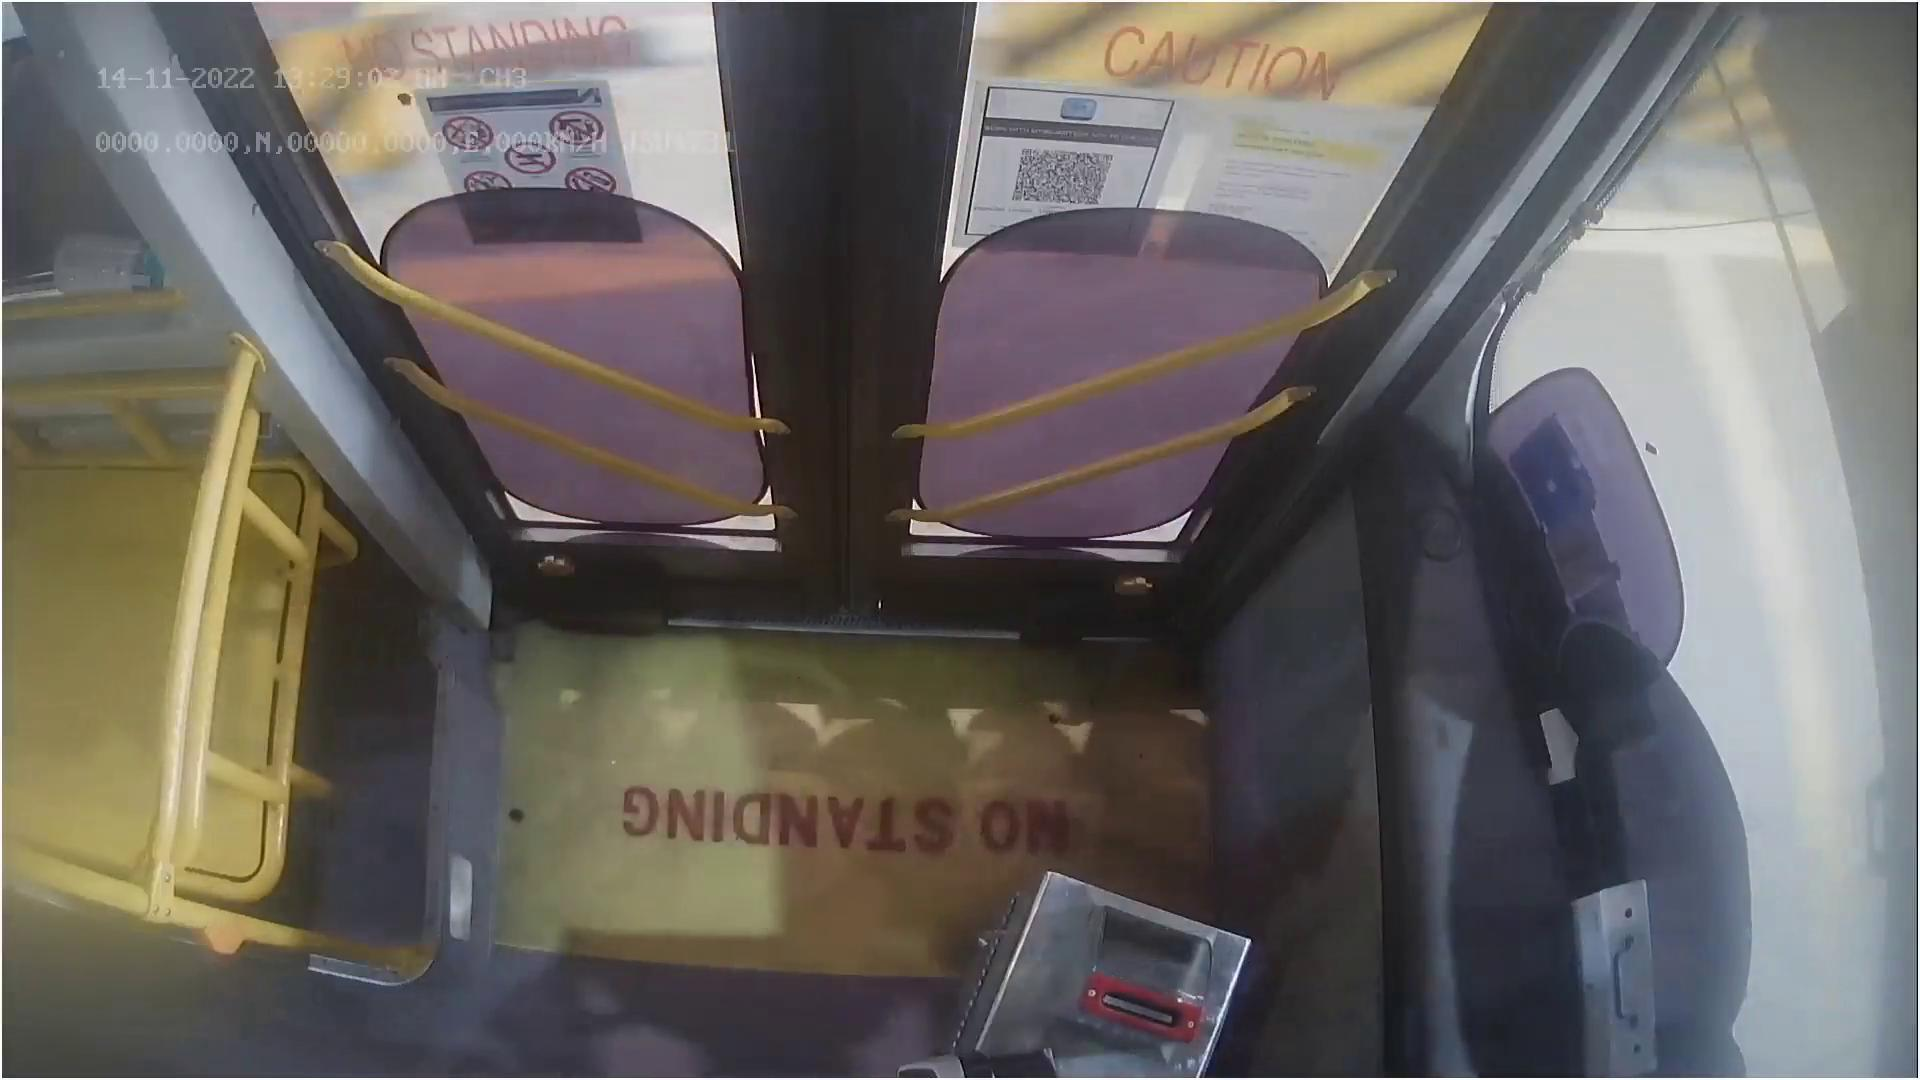close: (284, 0, 1447, 162)
